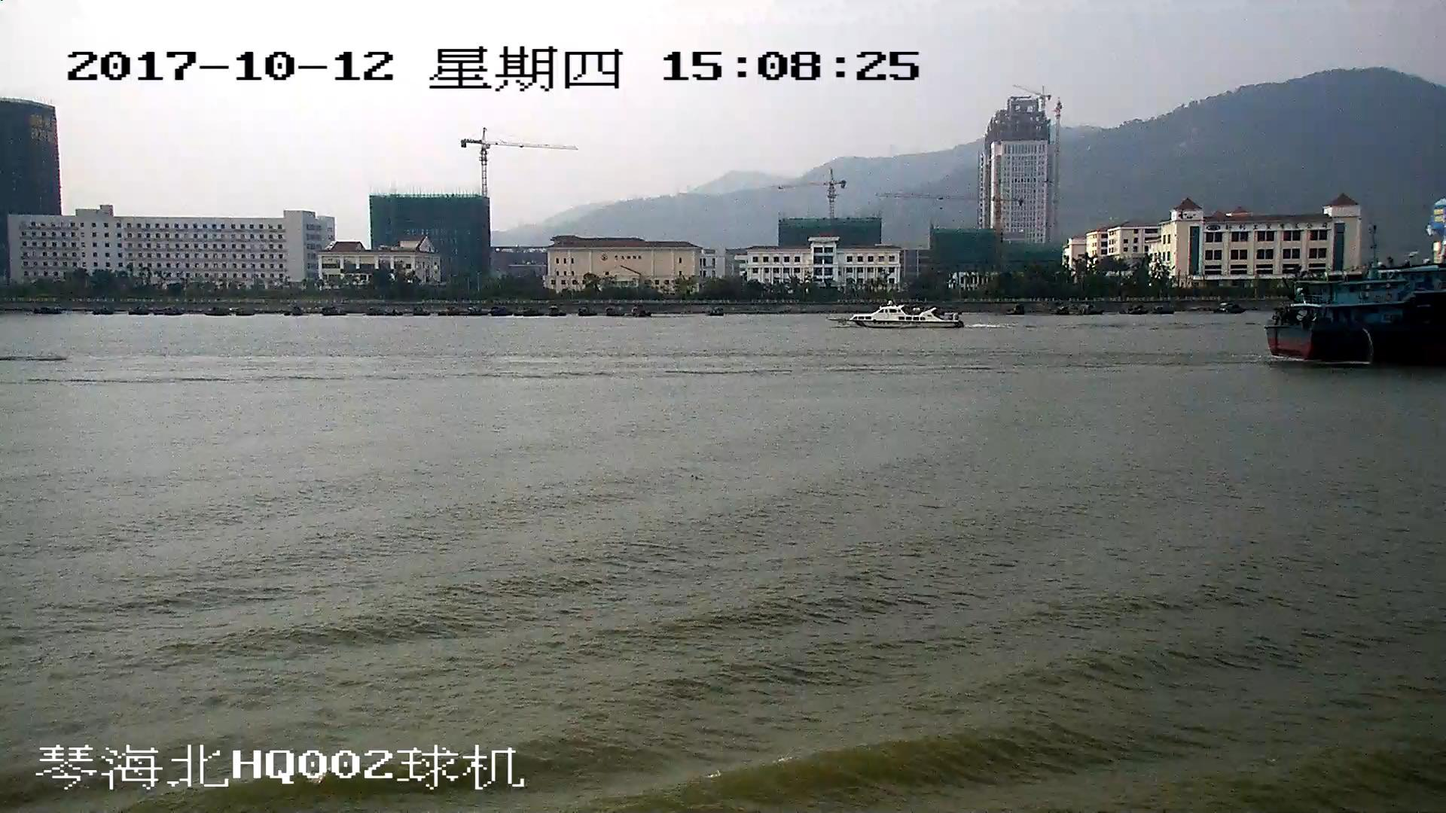passenger ship: (850, 302, 961, 333)
